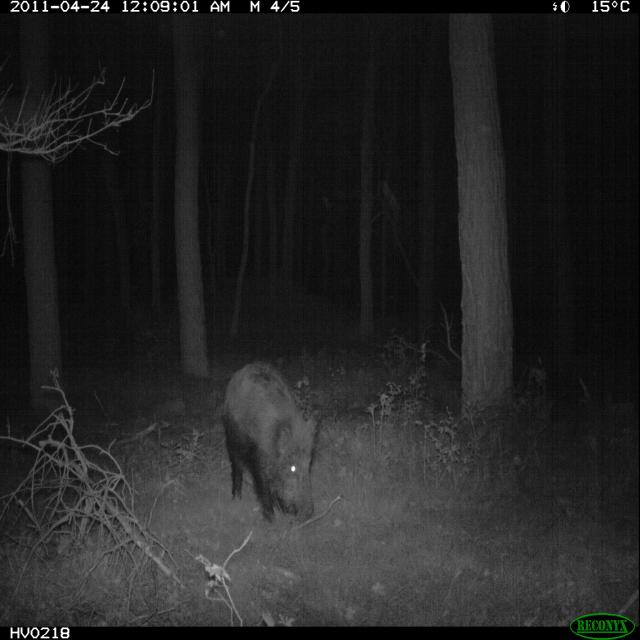boar: (212, 334, 333, 534)
